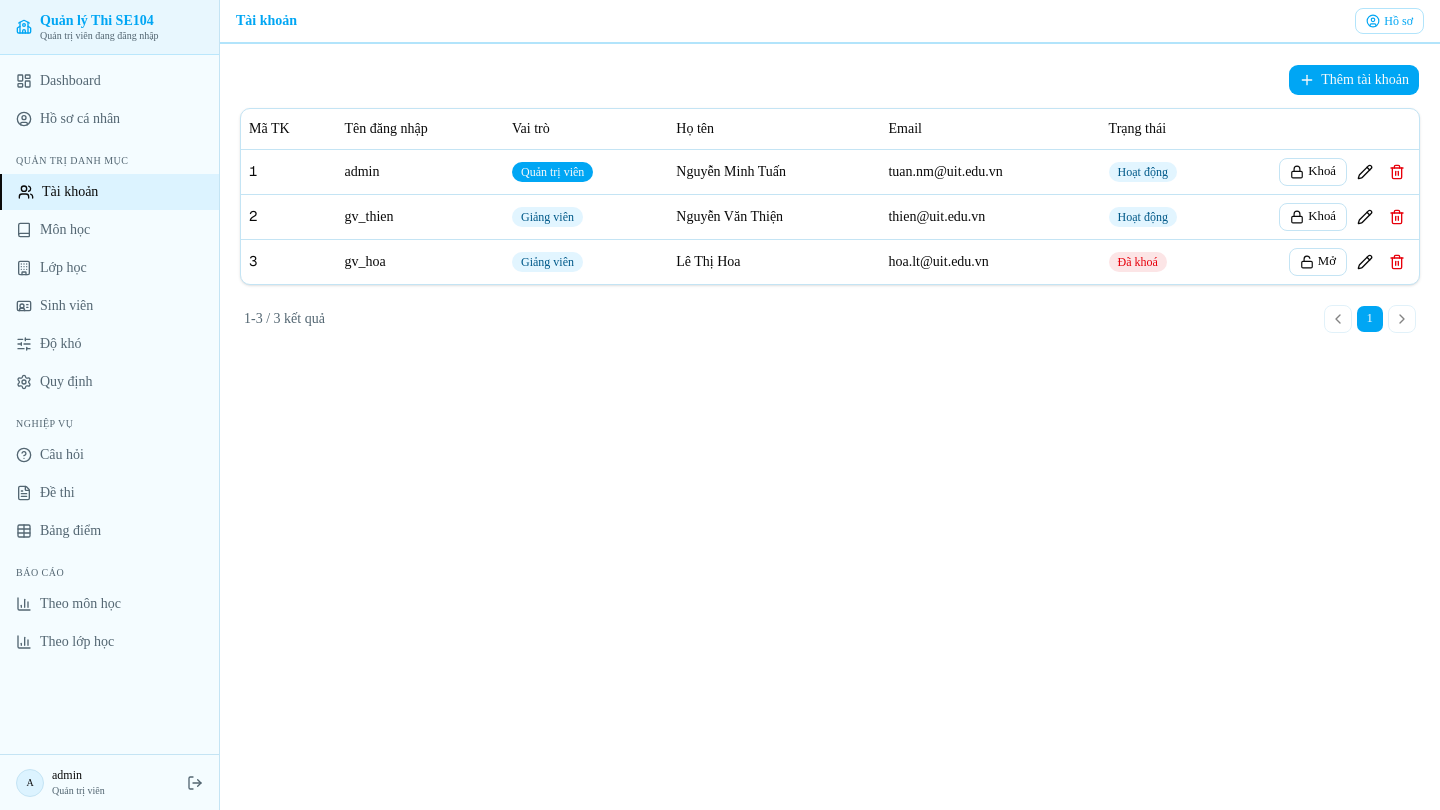
Scenario: AdminUsersPage › admin can open edit modal pre-filled
Expected: the text "gv_thien" is shown, [336,194,504,239]
Step 1. Click the button named "Sửa" in the row of "Nguyễn Minh Tuấn" → (1365,172), box [1351,158,1379,186]
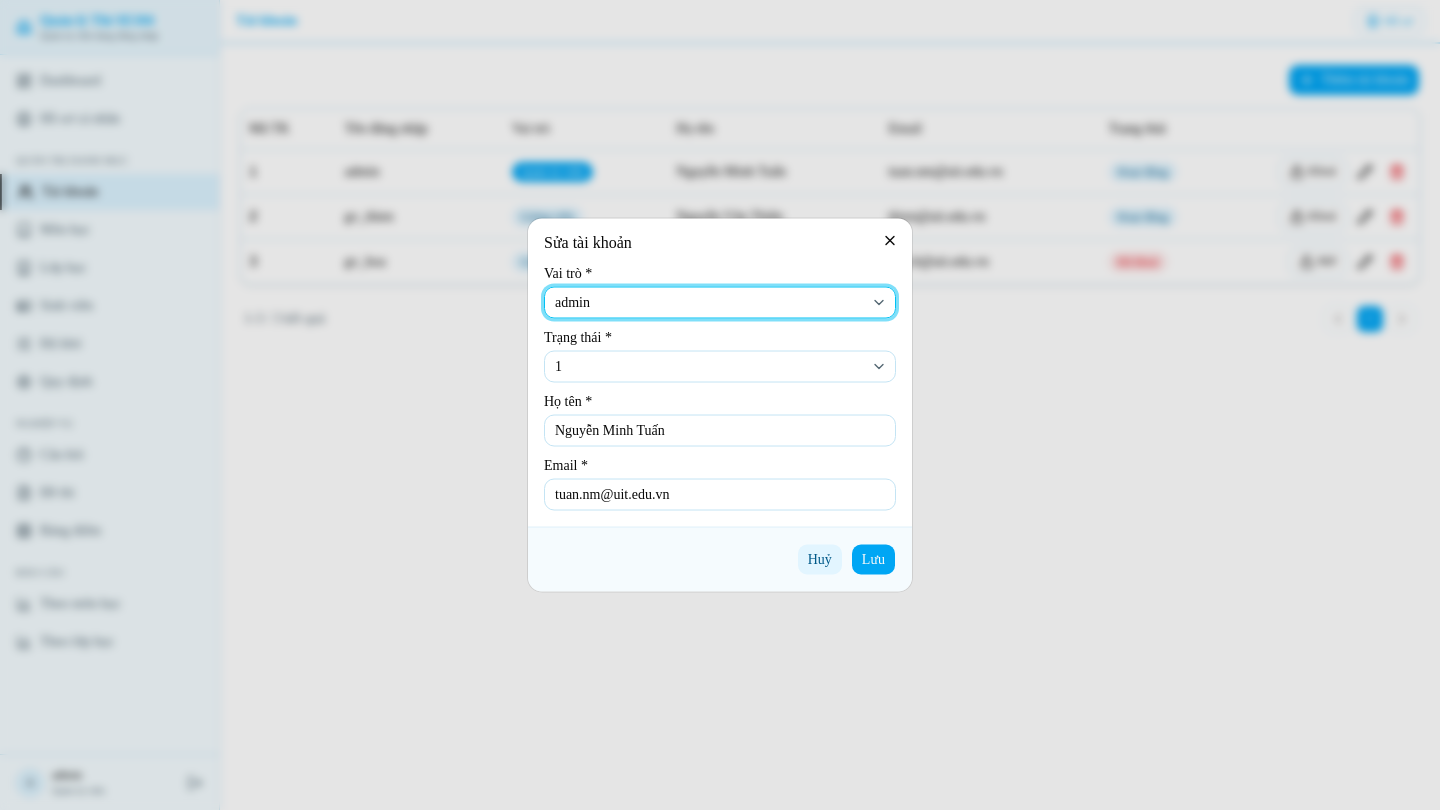
Expected: the heading "Sửa tài khoản" is shown, [544,234,632,250]
